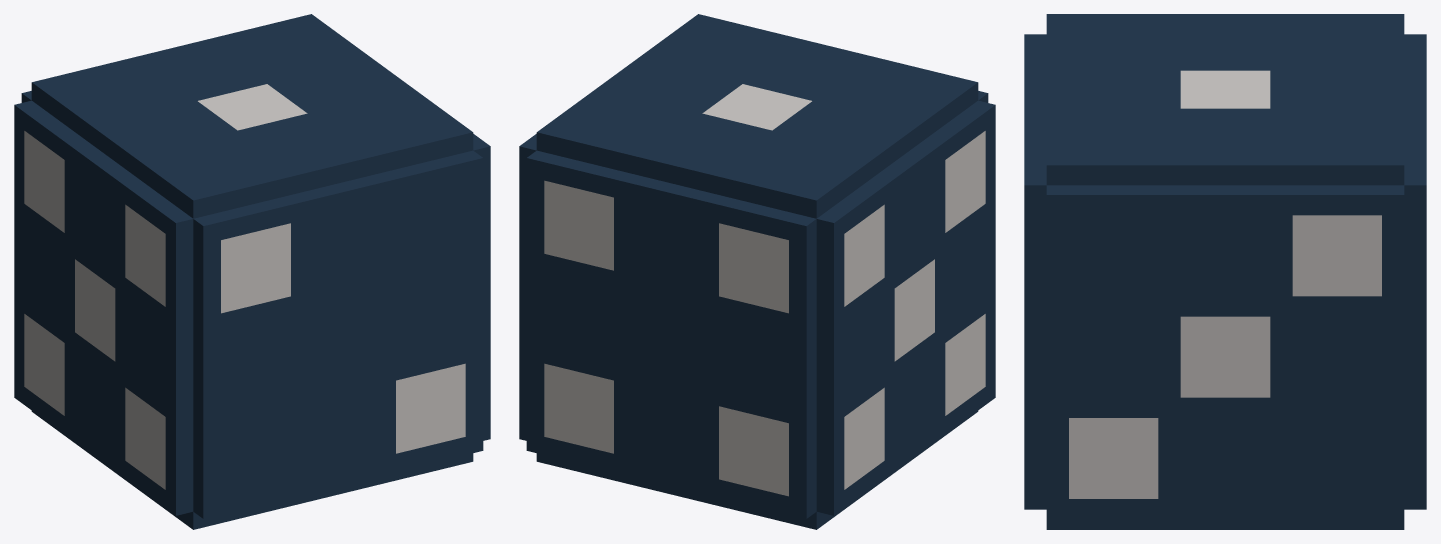
Rendered from dice-v2-blue-white.gltf.
The picture shows the model from 3 angles, left to right: view 1: azimuth 30°, elevation 25°; view 2: azimuth 150°, elevation 25°; view 3: azimuth 270°, elevation 25°; orthographic projection. The views are drawn at different scales.
Parts seen in each view (by area): view 1: Untitled; view 2: Untitled; view 3: Untitled.
Boxes of the visible parts, x1,y1,x2,y2 form: Untitled: [14, 14, 490, 529]; Untitled: [519, 14, 995, 529]; Untitled: [1024, 14, 1426, 529].
Bounding box in the file's own units: 1.8 × 1.8 × 1.8.
Materials: 1 (1 with a texture image).
